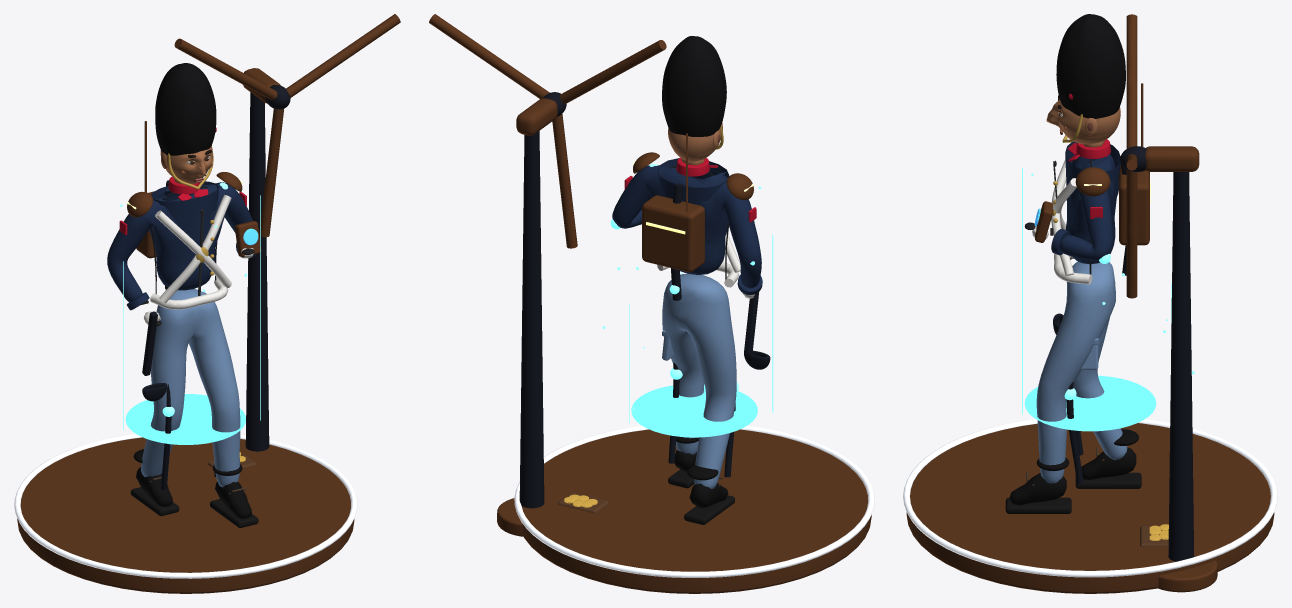
File: moelle_kbh.glb
The picture shows the model from 3 angles, left to right: view 1: azimuth 30°, elevation 25°; view 2: azimuth 150°, elevation 25°; view 3: azimuth 270°, elevation 25°; orthographic projection. The views are drawn at different scales.
Visible parts, largest first — view 1: fod_net, menneske_net, vindmoelle_net, hoved_net, spin_net, op4.001_net, op1_net, vaaben_net, op3_net, op4_net; view 2: fod_net, menneske_net, vindmoelle_net, hoved_net, op3_net, spin_net, op4.001_net, op4_net, vaaben_net, op1_net; view 3: fod_net, menneske_net, vindmoelle_net, hoved_net, op4.001_net, spin_net, op3_net, op1_net, op4_net, vaaben_net.
Boxes of the visible parts, x1,y1,x2,y2 form: fod_net: (14, 433, 357, 593); menneske_net: (107, 177, 258, 527); vindmoelle_net: (208, 68, 280, 468); hoved_net: (155, 63, 216, 189); spin_net: (174, 14, 400, 237); op4.001_net: (120, 195, 260, 444); op1_net: (150, 194, 231, 309); vaaben_net: (142, 221, 261, 401); op3_net: (127, 121, 242, 258); op4_net: (161, 180, 227, 490); fod_net: (514, 425, 874, 593); menneske_net: (612, 157, 762, 524); vindmoelle_net: (497, 98, 608, 536); hoved_net: (662, 36, 726, 161); op3_net: (632, 133, 753, 272); spin_net: (429, 14, 666, 248); op4.001_net: (602, 186, 773, 437); op4_net: (610, 164, 754, 477); vaaben_net: (744, 292, 770, 369); op1_net: (657, 232, 740, 287); fod_net: (903, 419, 1277, 593); menneske_net: (1005, 139, 1141, 513); vindmoelle_net: (1140, 146, 1217, 592); hoved_net: (1046, 14, 1125, 144); op4.001_net: (1022, 168, 1194, 431); spin_net: (1120, 14, 1146, 298); op3_net: (1075, 83, 1150, 245); op1_net: (1051, 159, 1092, 284); op4_net: (1064, 156, 1126, 483); vaaben_net: (1034, 201, 1063, 334).
Size of the model in its own units: 2.48 by 2.91 by 1.94.
